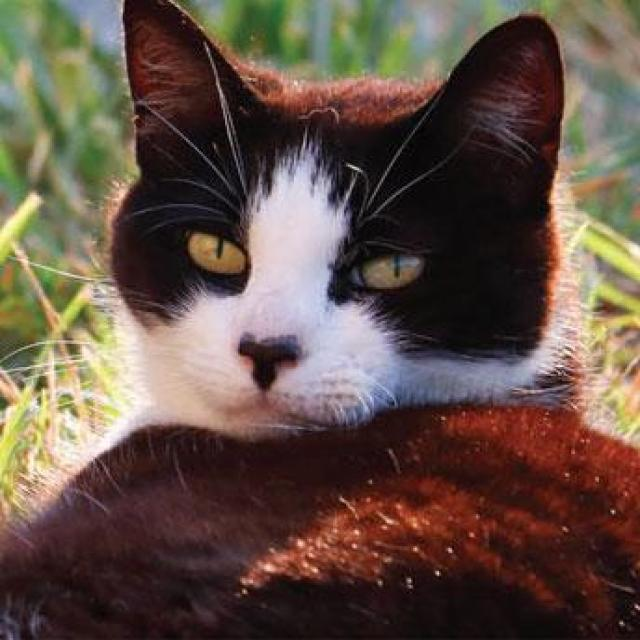Cat: (100, 2, 590, 446)
